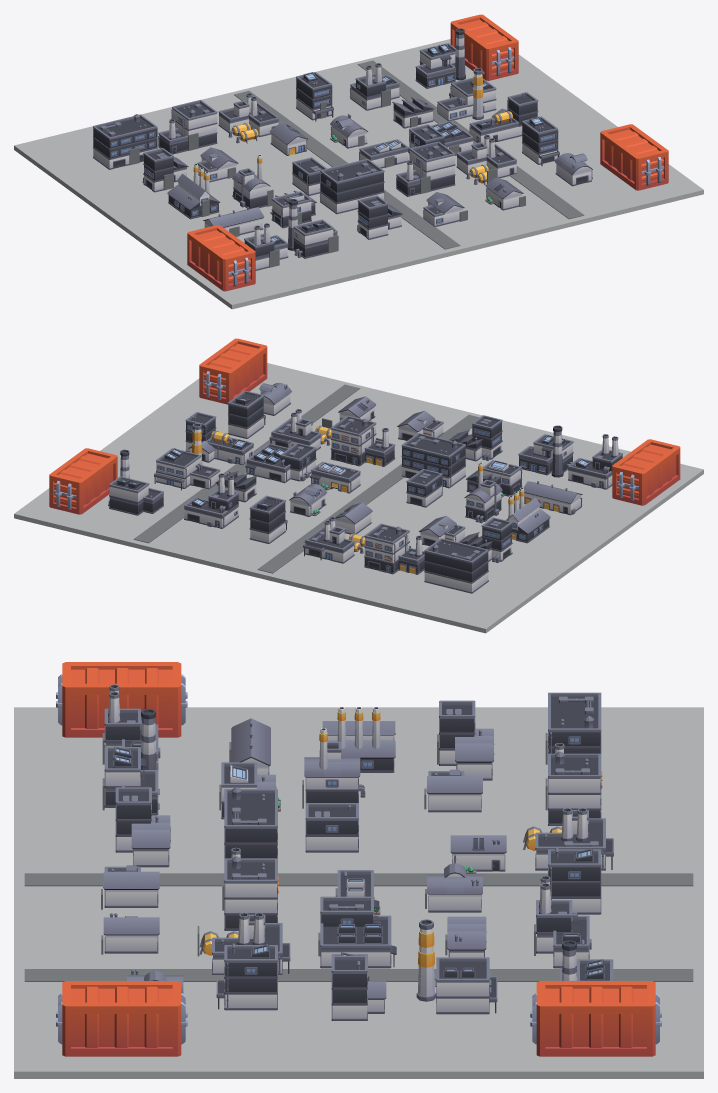
File: dense_tightly_packed_city.glb
The picture shows the model from 3 angles, top to bottom: view 1: azimuth 30°, elevation 25°; view 2: azimuth 150°, elevation 25°; view 3: azimuth 270°, elevation 25°; orthographic projection. The views are drawn at different scales.
Visible parts, largest first — view 1: paved_city_ground, container2_shipping-container-a, container0_shipping-container-a, container1_shipping-container-a, 3_2_building-a, 0_0_building-a, 3_3_building-b, 0_1_building-b, alley_0, 1_5_building-l, 0_5_building-f, 2_5_building-r (+24 smaller); view 2: paved_city_ground, container0_shipping-container-a, container1_shipping-container-a, container2_shipping-container-a, 0_0_building-a, 3_3_building-b, 3_2_building-a, 0_1_building-b, 1_5_building-l, 2_4_building-q, alley_0, 2_5_building-r (+24 smaller); view 3: paved_city_ground, container1_shipping-container-a, container2_shipping-container-a, container0_shipping-container-a, alley_0, alley_1, 1_5_building-l, 2_4_building-q, 3_5_building-d, 4_2_building-g, 3_2_building-a, 0_1_building-b (+23 smaller).
Boxes of the visible parts, left/top/right/bottom form: paved_city_ground: left=14, top=39, right=703, bottom=309; container2_shipping-container-a: left=600, top=124, right=668, bottom=190; container0_shipping-container-a: left=187, top=225, right=255, bottom=291; container1_shipping-container-a: left=450, top=14, right=518, bottom=80; 3_2_building-a: left=319, top=158, right=384, bottom=214; 0_0_building-a: left=93, top=114, right=157, bottom=169; 3_3_building-b: left=396, top=141, right=455, bottom=196; 0_1_building-b: left=158, top=100, right=217, bottom=154; alley_0: left=234, top=91, right=460, bottom=249; 1_5_building-l: left=437, top=68, right=496, bottom=120; 0_5_building-f: left=415, top=28, right=465, bottom=88; 2_5_building-r: left=469, top=92, right=538, bottom=143; paved_city_ground: left=14, top=363, right=703, bottom=633; container0_shipping-container-a: left=612, top=439, right=680, bottom=505; container1_shipping-container-a: left=49, top=448, right=117, bottom=514; container2_shipping-container-a: left=199, top=338, right=267, bottom=404; 0_0_building-a: left=424, top=538, right=488, bottom=593; 3_3_building-b: left=330, top=415, right=395, bottom=466; 3_2_building-a: left=401, top=433, right=465, bottom=488; 0_1_building-b: left=364, top=523, right=424, bottom=574; 1_5_building-l: left=154, top=423, right=220, bottom=490; 2_4_building-q: left=245, top=443, right=316, bottom=483; alley_0: left=257, top=415, right=479, bottom=573; 2_5_building-r: left=185, top=412, right=253, bottom=465; paved_city_ground: left=14, top=707, right=703, bottom=1078; container1_shipping-container-a: left=530, top=981, right=661, bottom=1056; container2_shipping-container-a: left=56, top=981, right=187, bottom=1056; container0_shipping-container-a: left=56, top=662, right=187, bottom=737; alley_0: left=24, top=873, right=693, bottom=886; alley_1: left=24, top=969, right=693, bottom=981; 1_5_building-l: left=416, top=919, right=497, bottom=1014; 2_4_building-q: left=320, top=896, right=396, bottom=968; 3_5_building-d: left=216, top=943, right=277, bottom=1010; 4_2_building-g: left=115, top=787, right=170, bottom=867; 3_2_building-a: left=224, top=787, right=277, bottom=858; 0_1_building-b: left=547, top=743, right=602, bottom=825.
Bounding box in the file's own units: 20 × 2.11 × 16.
Materials: 5 (2 with a texture image).
